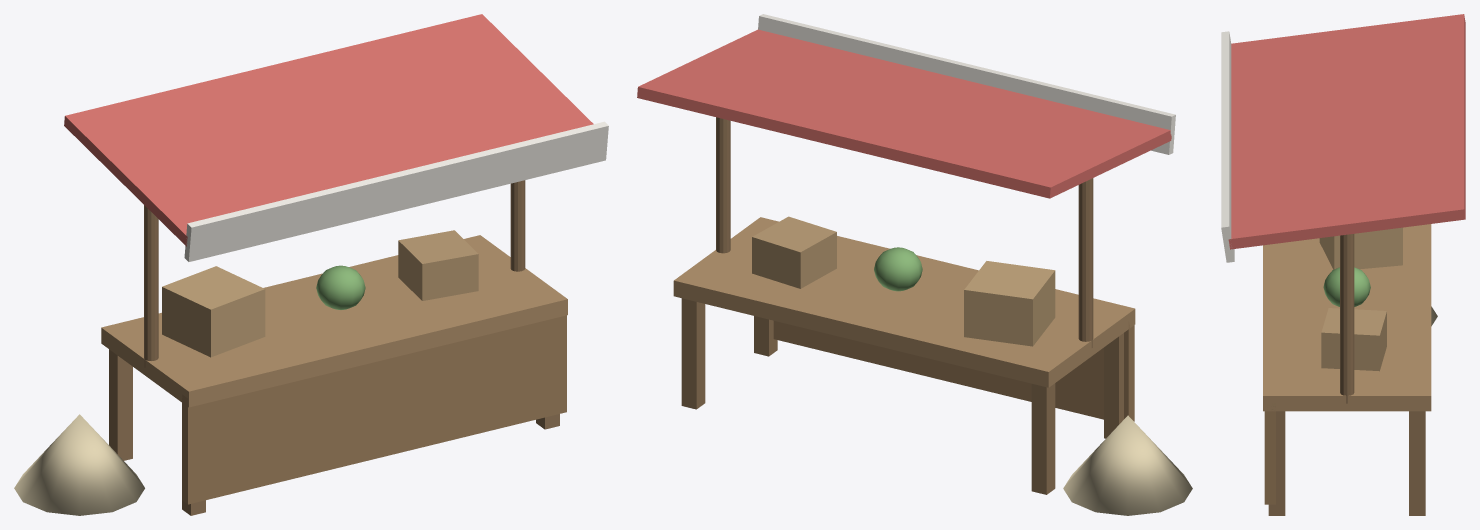
The model's file is market_stall.glb.
The picture shows the model from 3 angles, left to right: view 1: azimuth 30°, elevation 25°; view 2: azimuth 150°, elevation 25°; view 3: azimuth 270°, elevation 25°; orthographic projection. The views are drawn at different scales.
Visible parts, largest first — view 1: market_stall; view 2: market_stall; view 3: market_stall.
Boxes of the visible parts, x1,y1,x2,y2 form: market_stall: (14,14,608,515); market_stall: (637,14,1192,515); market_stall: (1221,14,1465,515).
Size of the model in its own units: 14.29 by 8.95 by 6.24.
